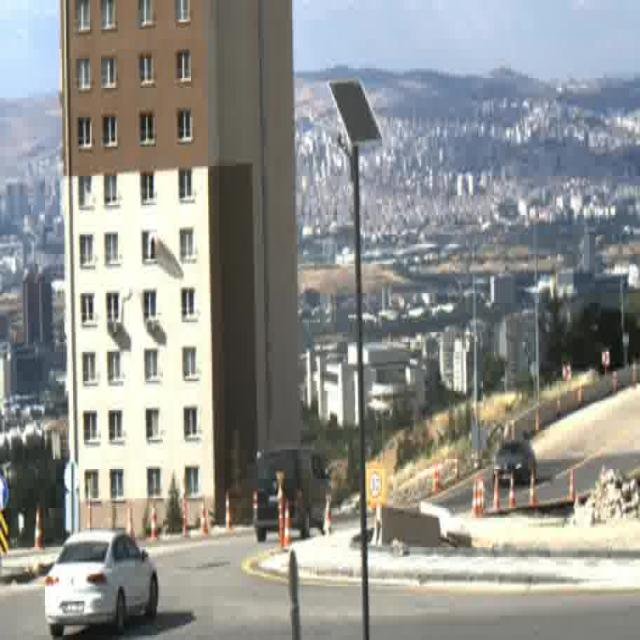Car: (43, 520, 158, 639), (253, 446, 330, 542), (493, 441, 536, 490)
